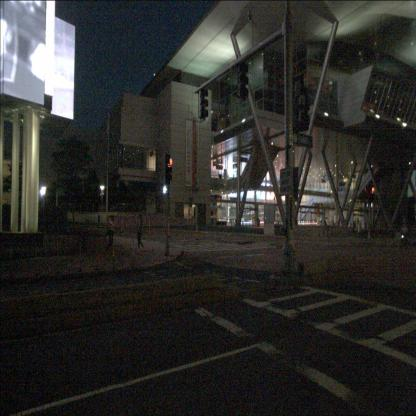human-pedestrian-adult: (107, 214, 116, 252), (137, 215, 144, 252)
movable_object-trafficcone: (167, 222, 170, 238), (148, 222, 151, 236), (121, 220, 124, 234), (76, 220, 79, 233), (196, 222, 198, 240)
